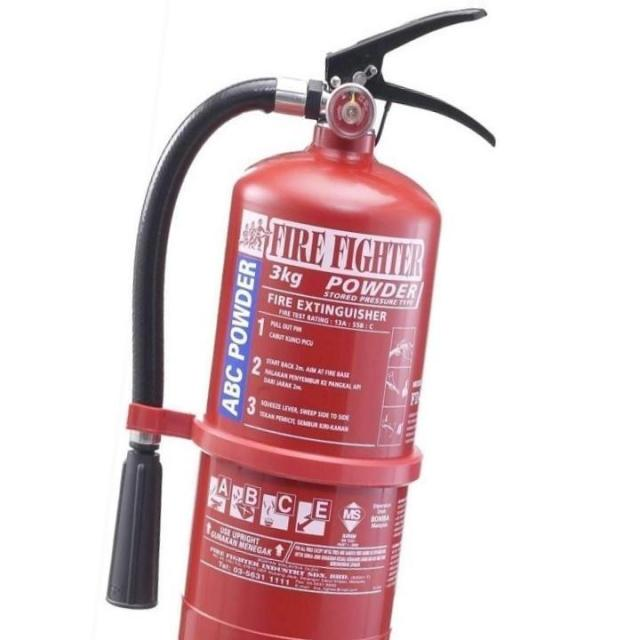fire_extinguisher: (91, 0, 505, 639)
